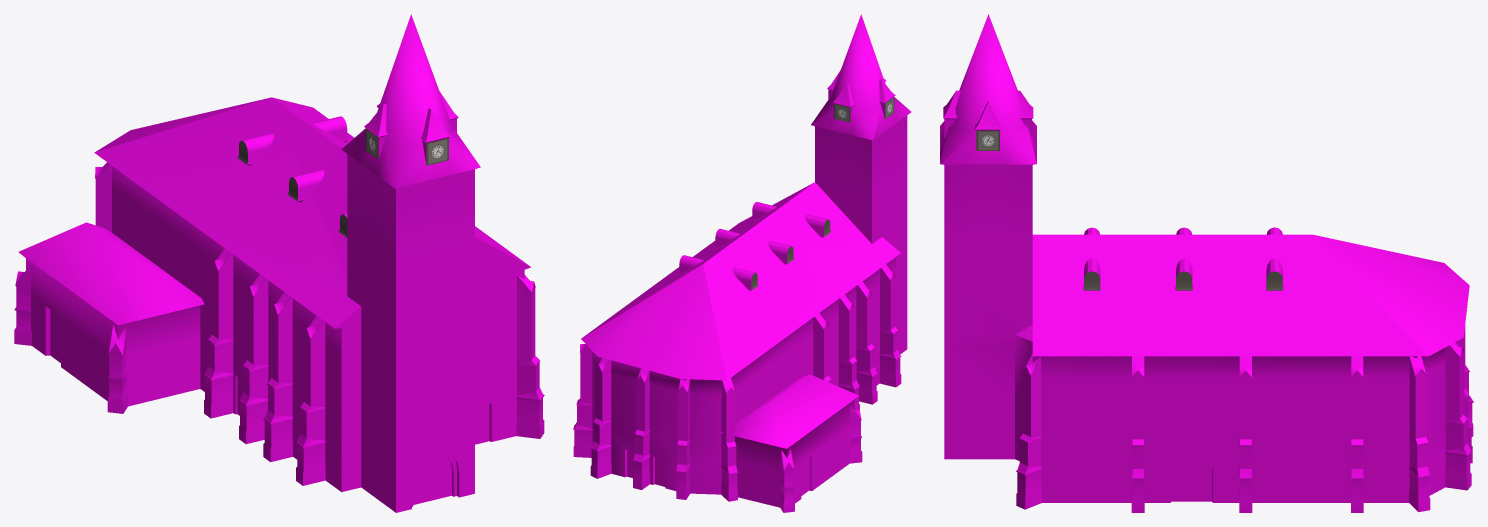
The model's file is church bigger pixels.fbx.
3 renders of one model, left to right at view 1: azimuth 30°, elevation 25°; view 2: azimuth 150°, elevation 25°; view 3: azimuth 270°, elevation 25°, orthographic. The views are drawn at different scales.
Visible parts, largest first — view 1: church_textured; view 2: church_textured; view 3: church_textured.
Part boxes in pixels (x1=…): church_textured: x1=14, y1=14, x2=544, y2=512; church_textured: x1=573, y1=14, x2=911, y2=512; church_textured: x1=940, y1=14, x2=1473, y2=512.
Size of the model in its own units: 34.8 by 50 by 56.53.
